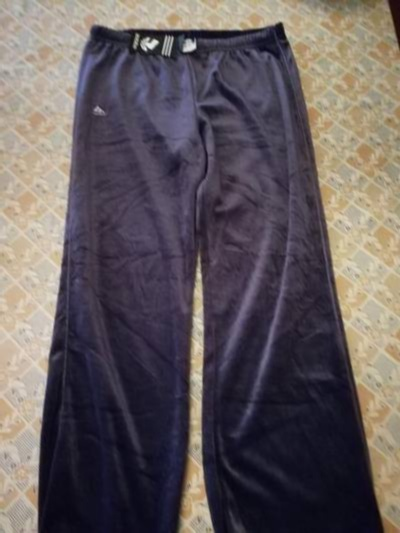Pants: (27, 15, 380, 528)
